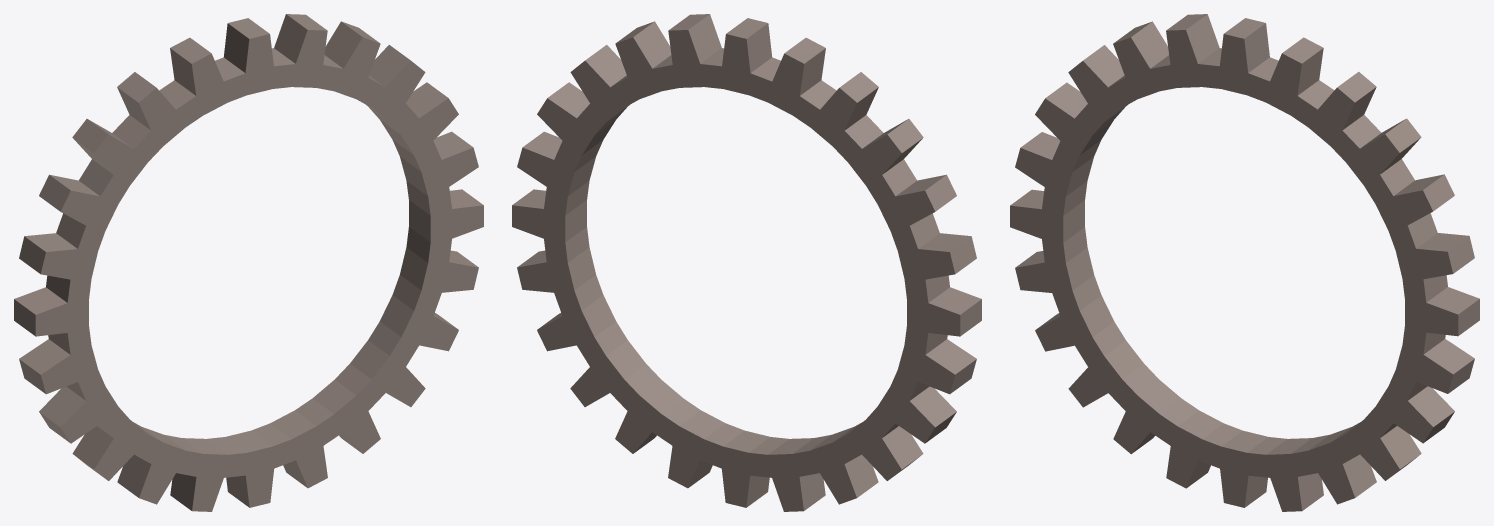
The model's file is puzzle_gear5.fbx.
3 views of the same model, side by side, from view 1: azimuth 30°, elevation 25°; view 2: azimuth 150°, elevation 25°; view 3: azimuth 330°, elevation 25° (orthographic).
Visible parts, largest first — view 1: Cylinder.028; view 2: Cylinder.028; view 3: Cylinder.028.
Boxes of the visible parts, x1=… form: Cylinder.028: x1=14, y1=14, x2=483, y2=511; Cylinder.028: x1=512, y1=14, x2=981, y2=511; Cylinder.028: x1=1010, y1=14, x2=1479, y2=511.
Bounding box in the file's own units: 364 × 364 × 30.58.
